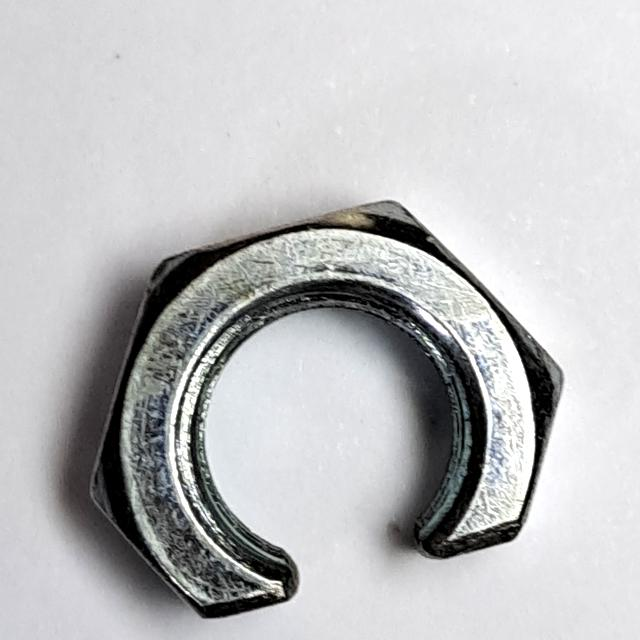Fracture: (77, 188, 574, 626)
